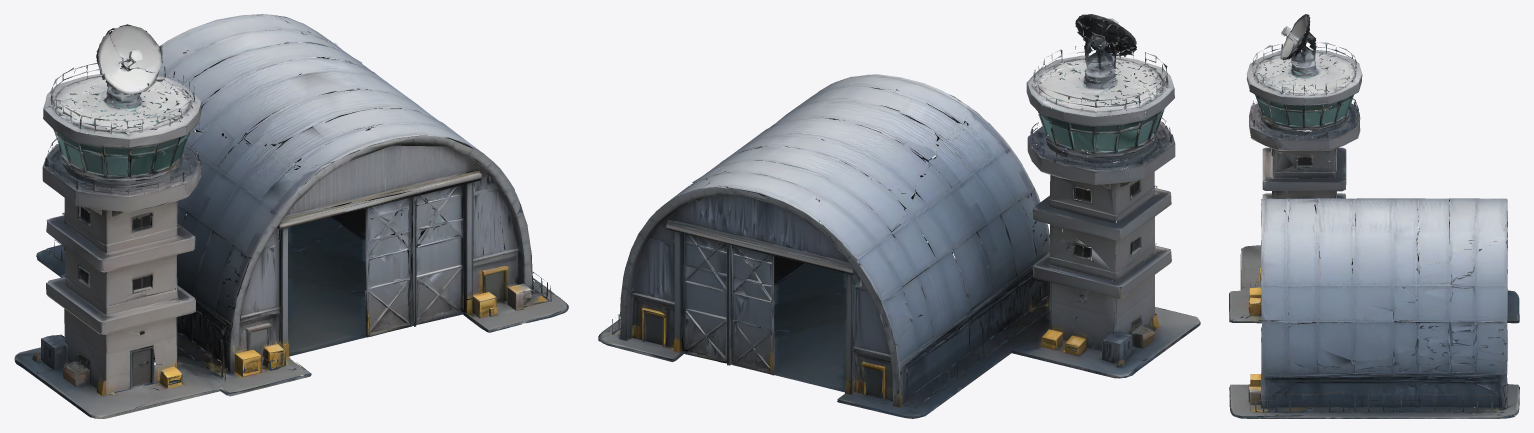
File: tower_hangar.glb
3 renders of one model, left to right at view 1: azimuth 30°, elevation 25°; view 2: azimuth 150°, elevation 25°; view 3: azimuth 270°, elevation 25°, orthographic. The views are drawn at different scales.
Visible parts, largest first — view 1: tower; view 2: tower; view 3: tower.
Part boxes in pixels (box(x1,y1,x2,y2)): tower: box(14, 14, 568, 418); tower: box(598, 14, 1200, 418); tower: box(1229, 14, 1519, 418).
Size of the model in its own units: 0.8699 by 0.6053 by 0.6229.
1 material, 1 textured.
